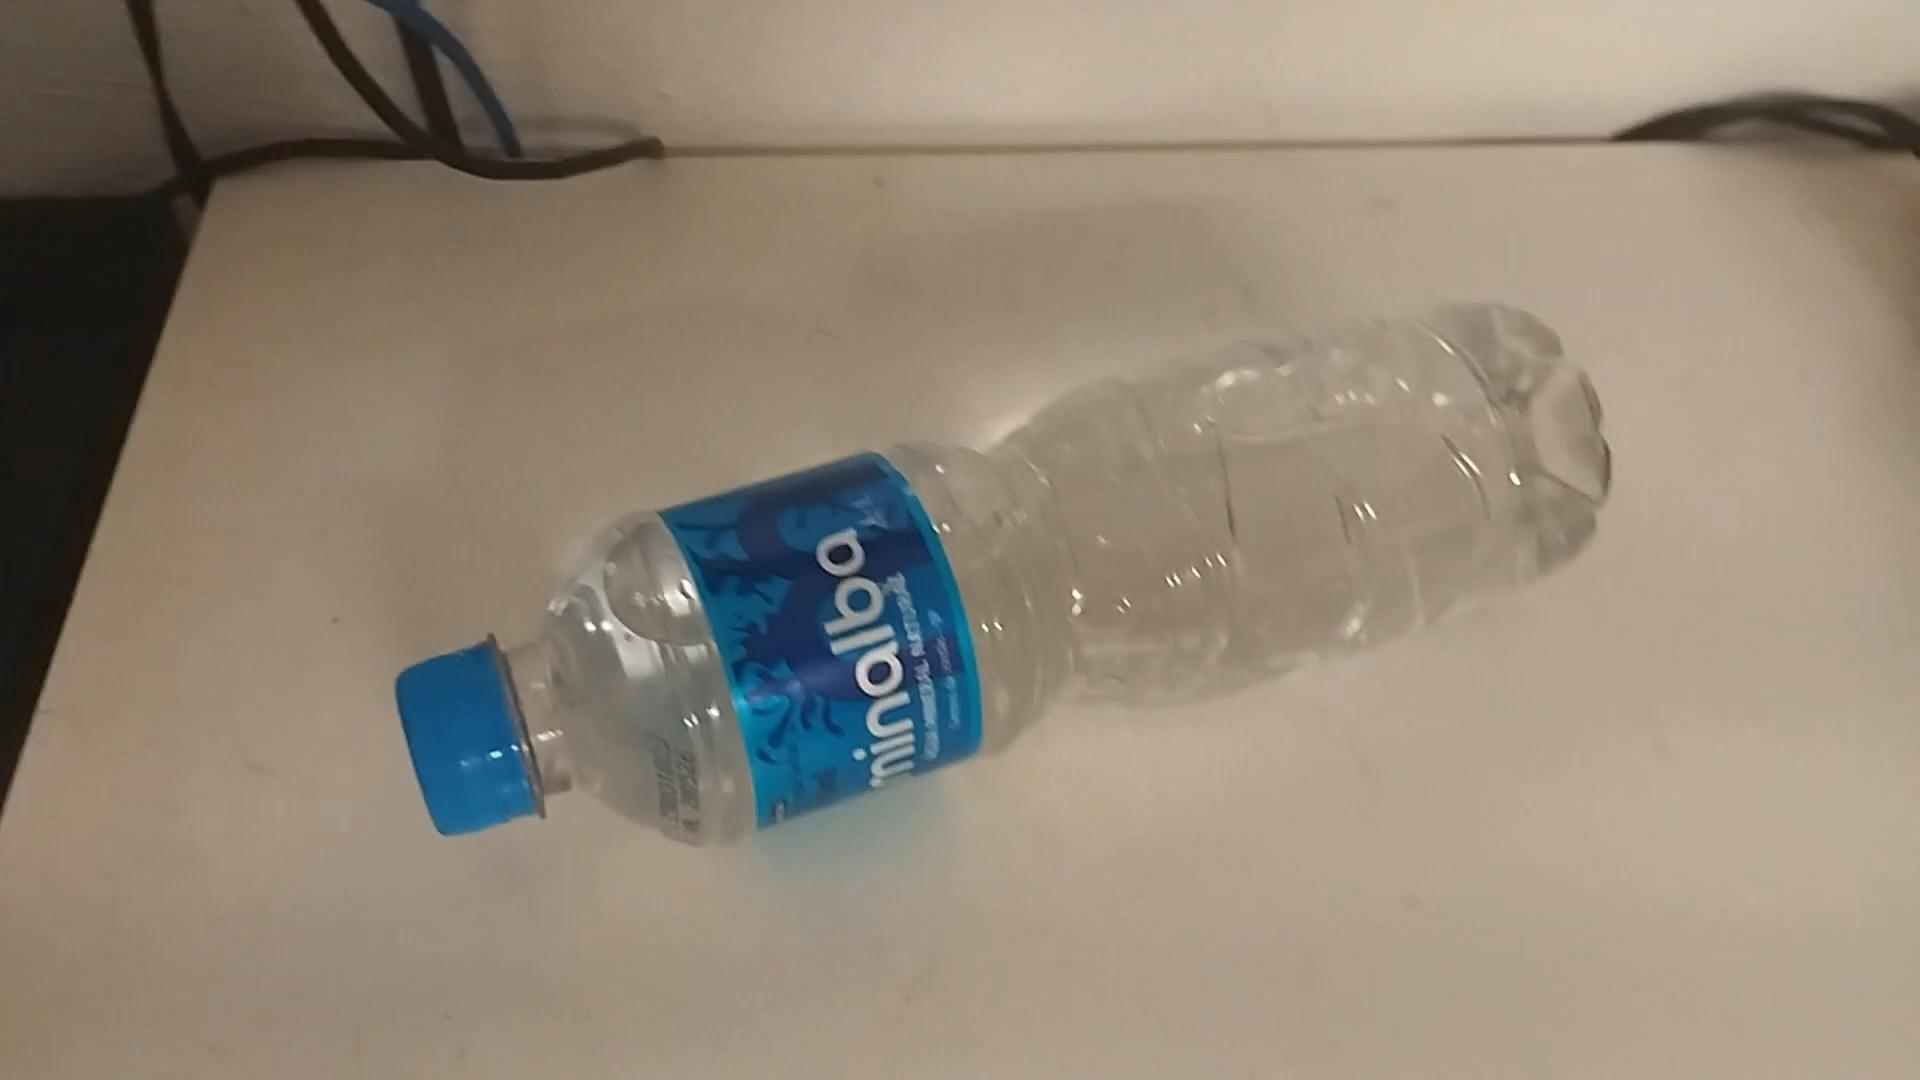agua: (411, 311, 1578, 844)
